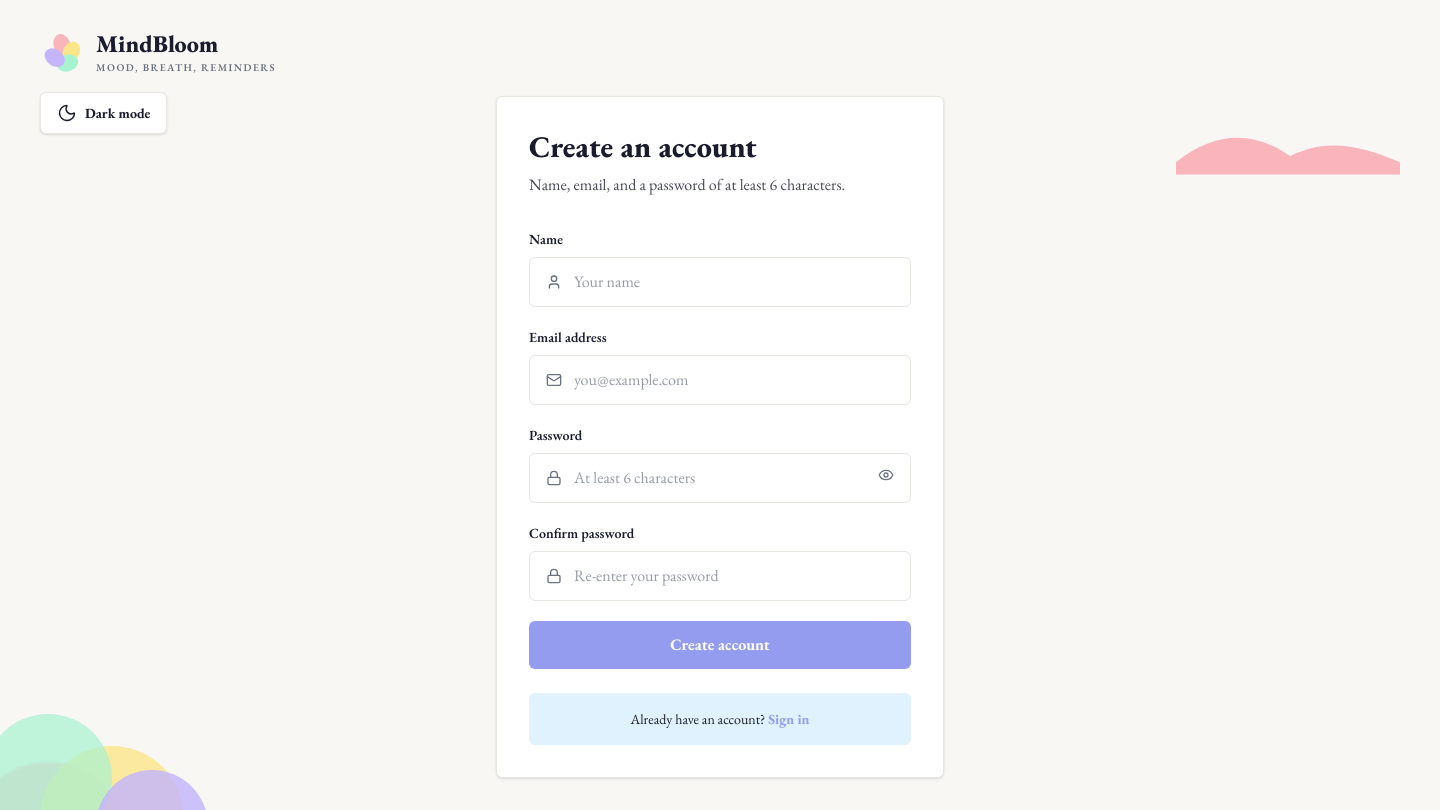
Register › rejects passwords that do not match
Type "Bloom" into the field labelled "Name" at [734, 282], box 574,270 -> 894,294
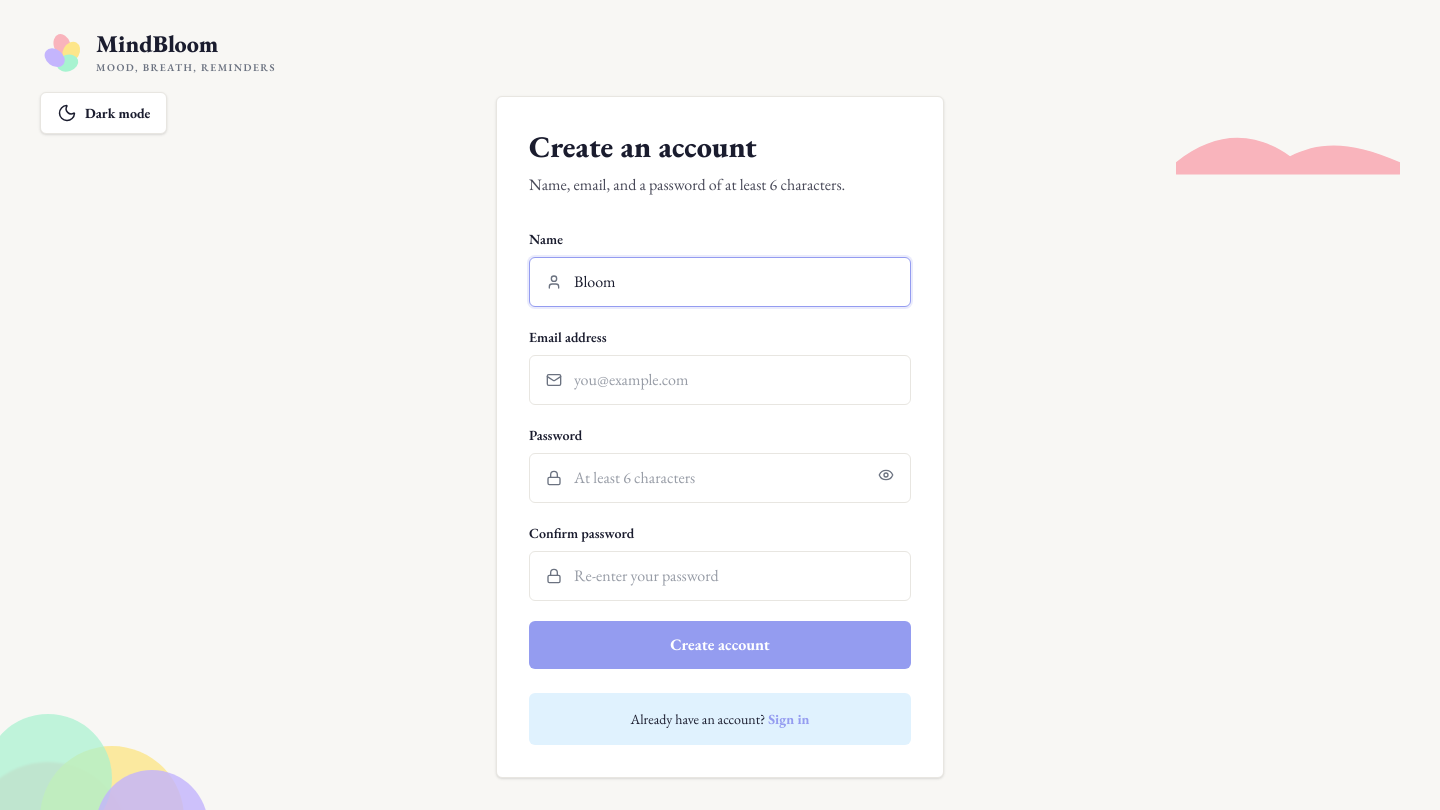
Type "bloom@example.com" into the field labelled "Email address" at [734, 380], box 574,368 -> 894,392
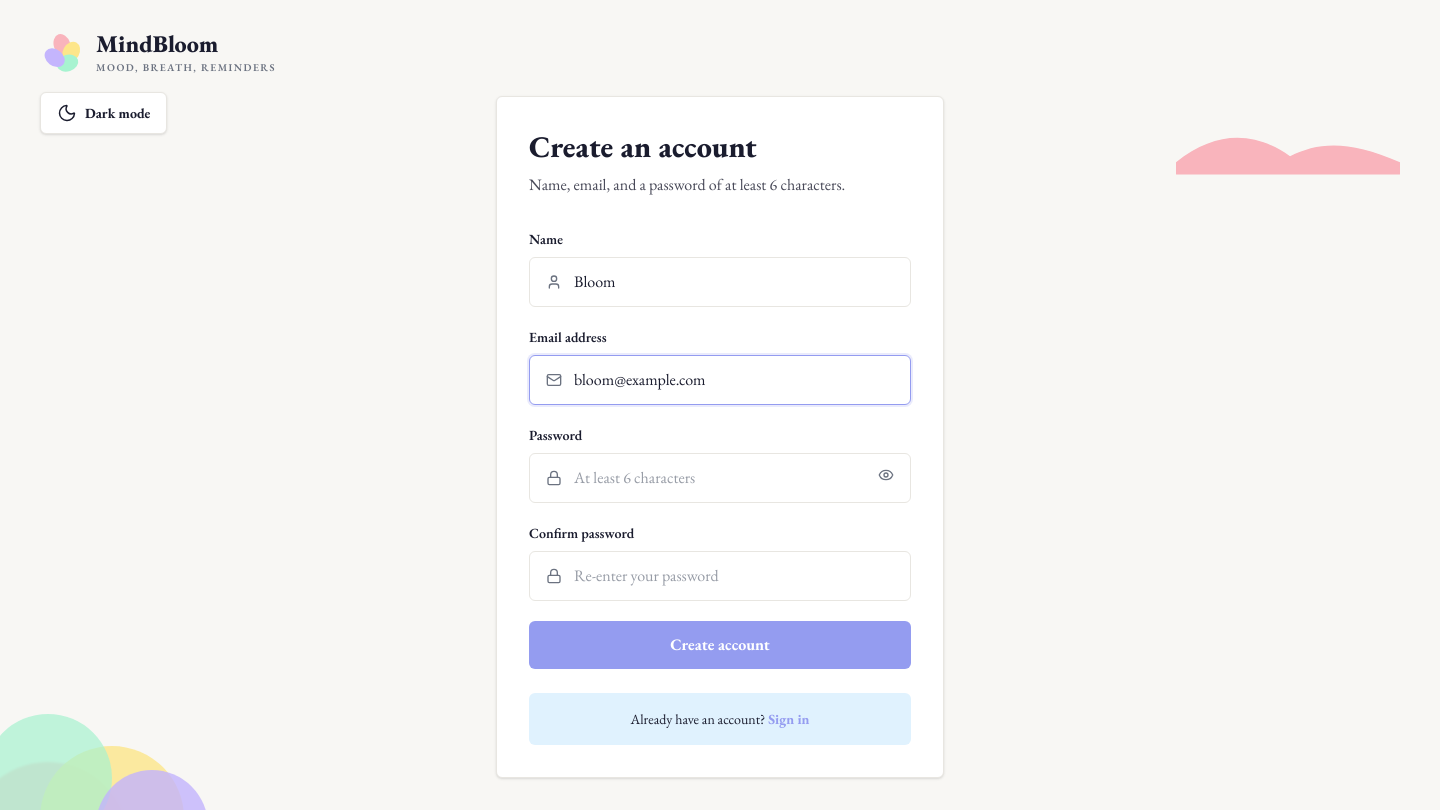
Type "secret1" into the password field labelled "Password" at [720, 478], box 574,466 -> 866,490
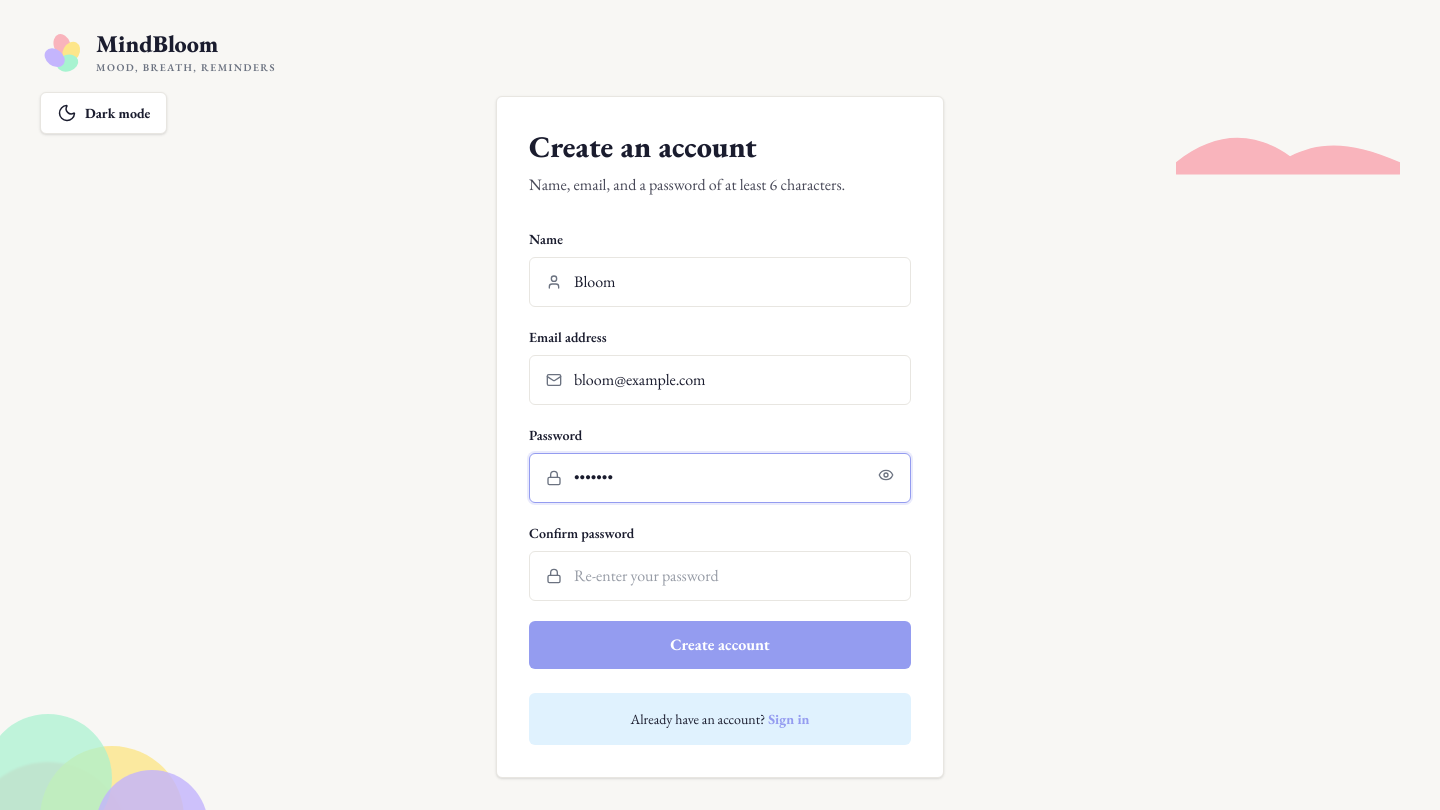
Type "different1" into the password field labelled "Confirm password" at [734, 576], box 574,564 -> 894,588
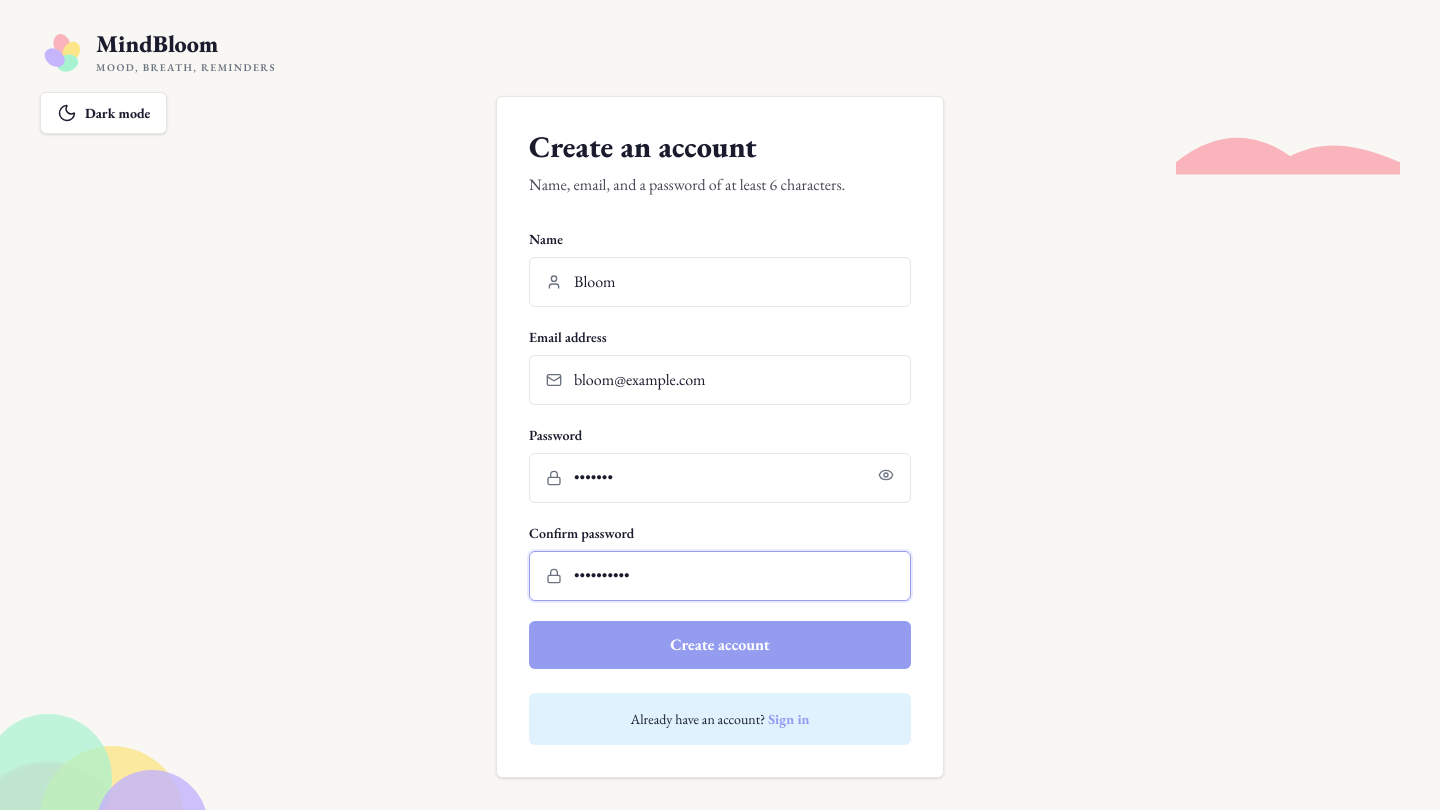
Click the submit button at [720, 645], box 529,621 -> 911,669
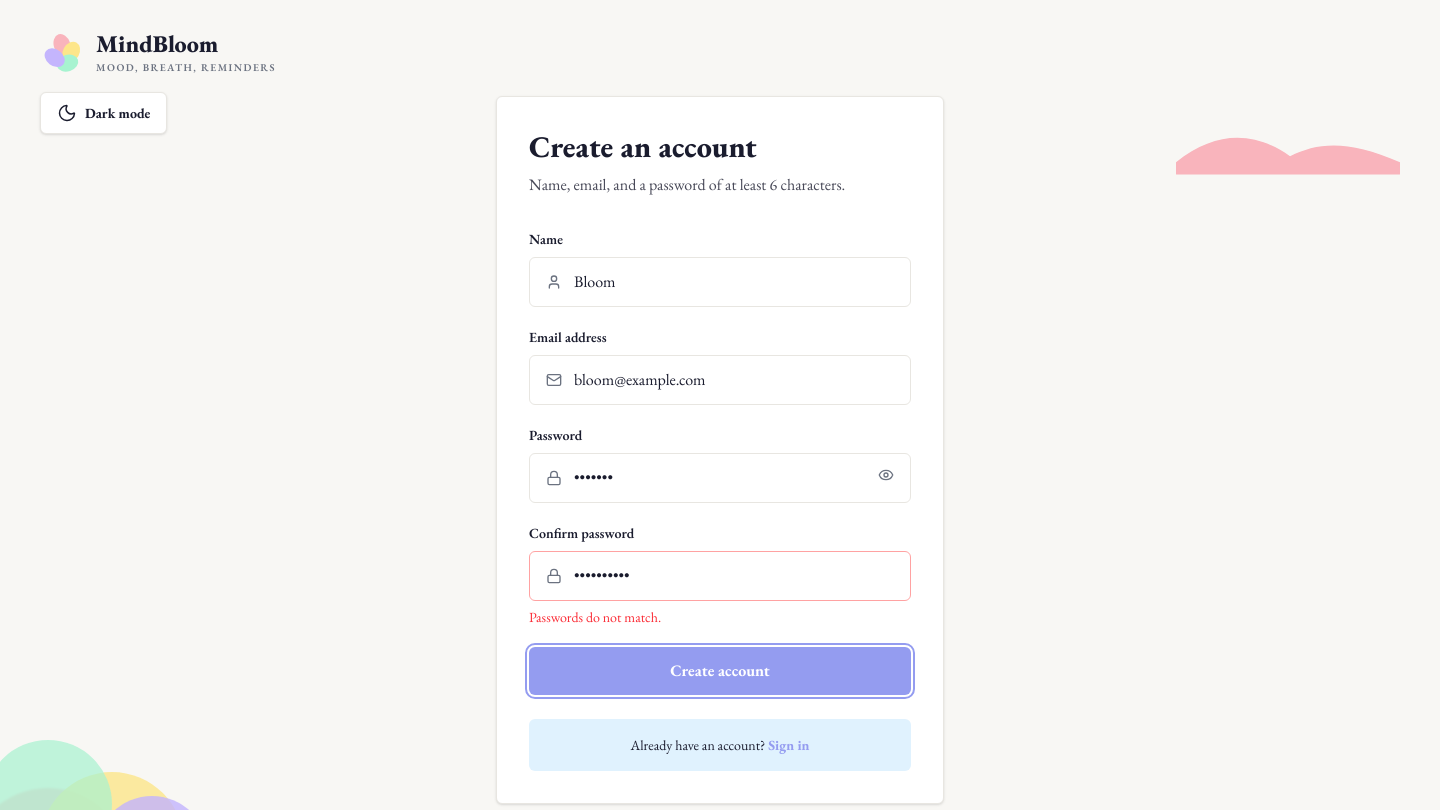
Check: the text "Passwords do not match." is shown, box 529,608 -> 661,626
